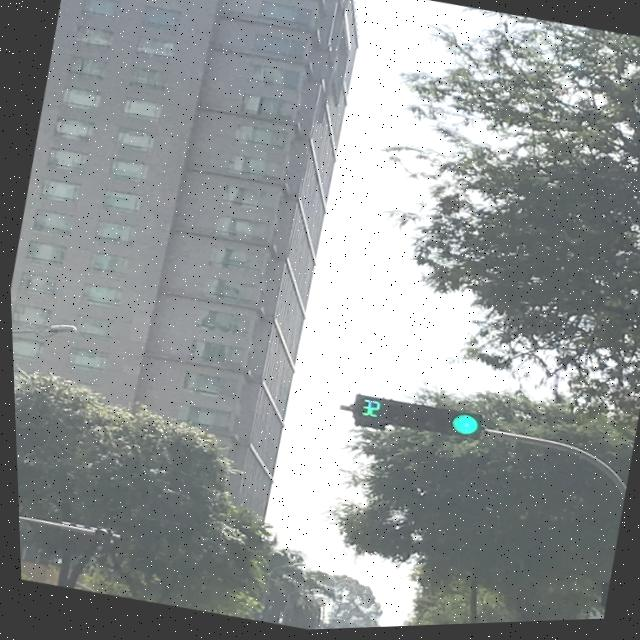Green: (372, 390, 491, 457)
